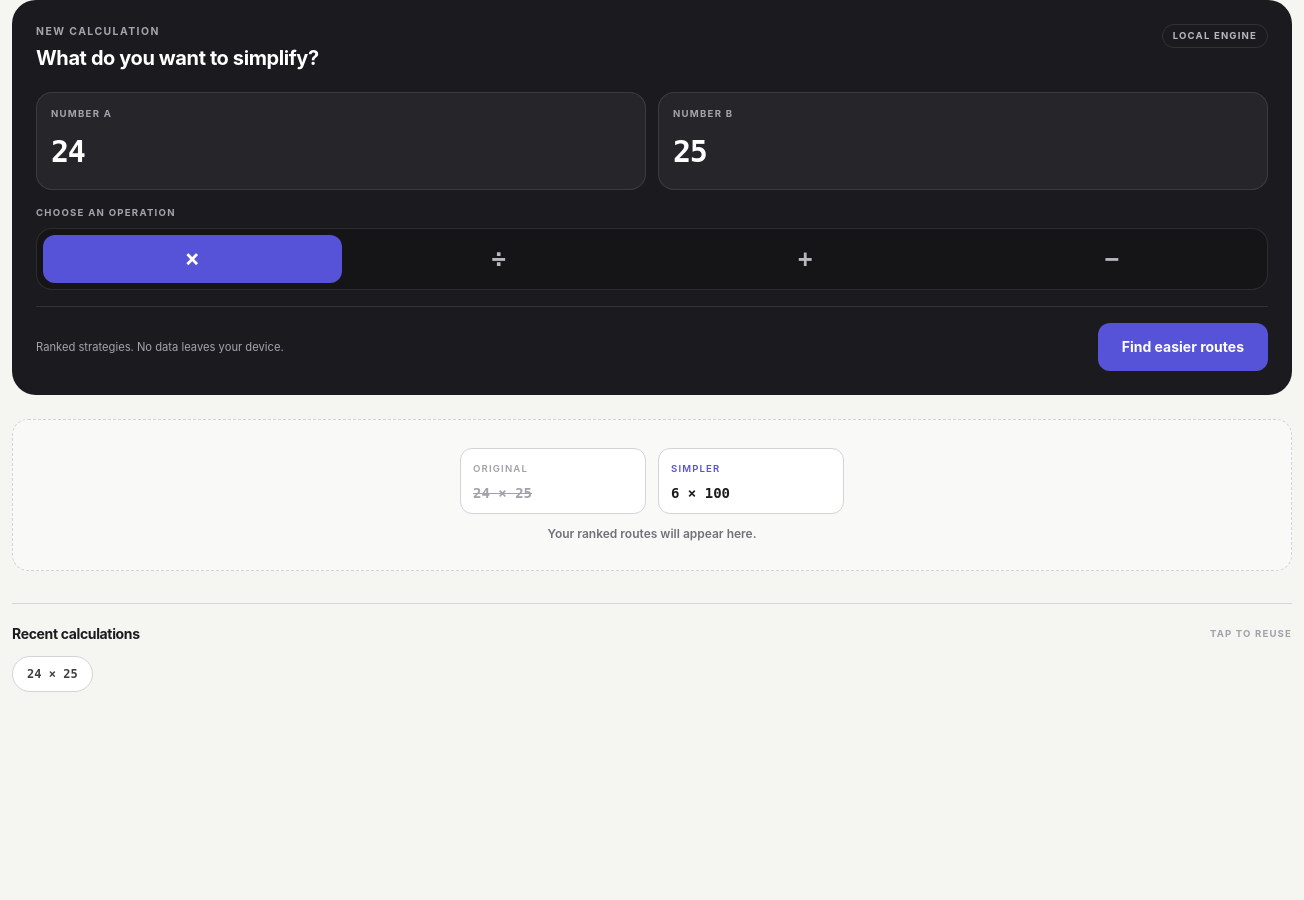
Scenario: CalculatorApp › rejects division by zero without showing results
Click the button named "Select division". click: (499, 259)
box: [350,235,648,283]
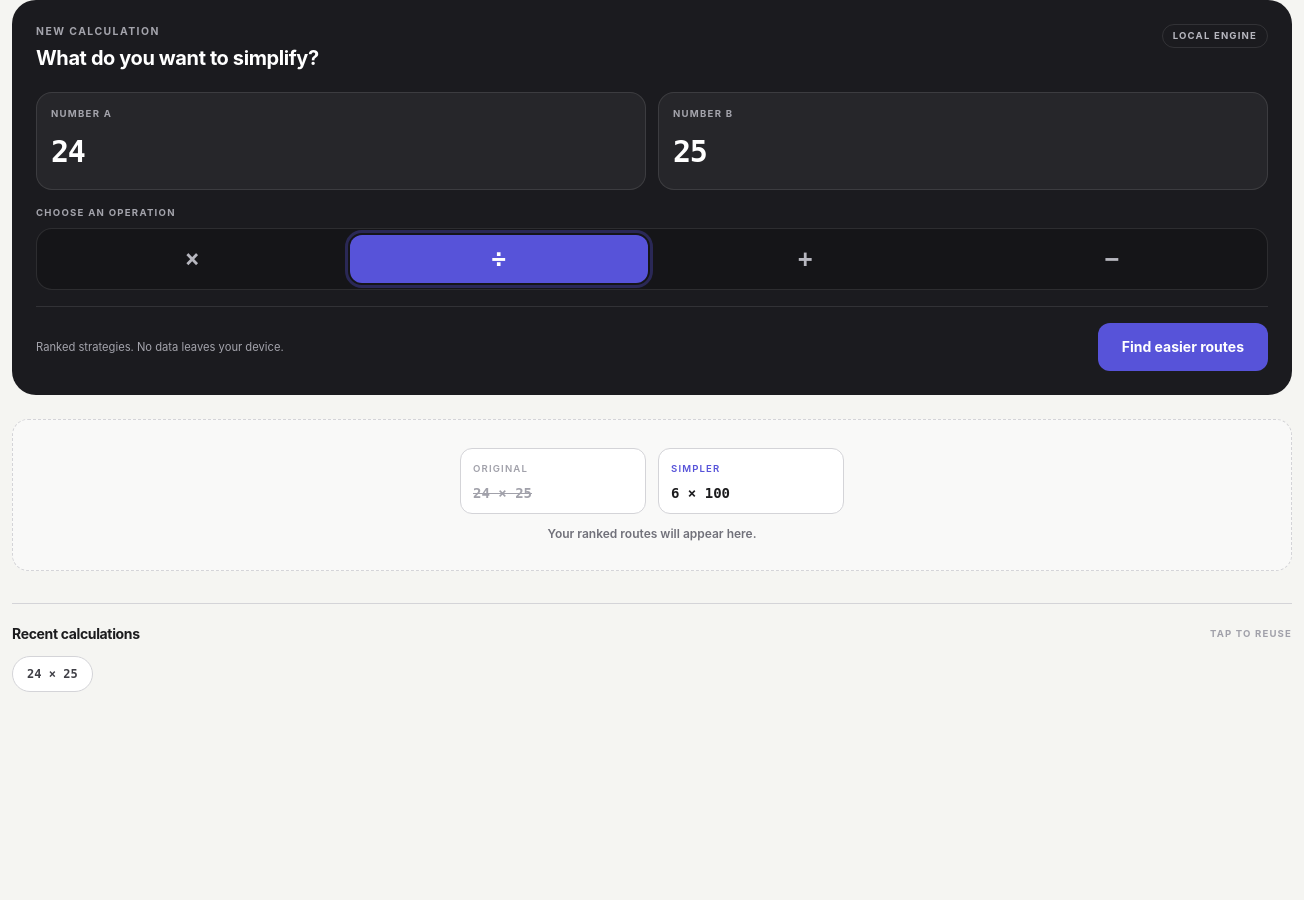
Replace the text in the number field named "Second number" with "0". click: (963, 151)
box: [673,127,1253,175]
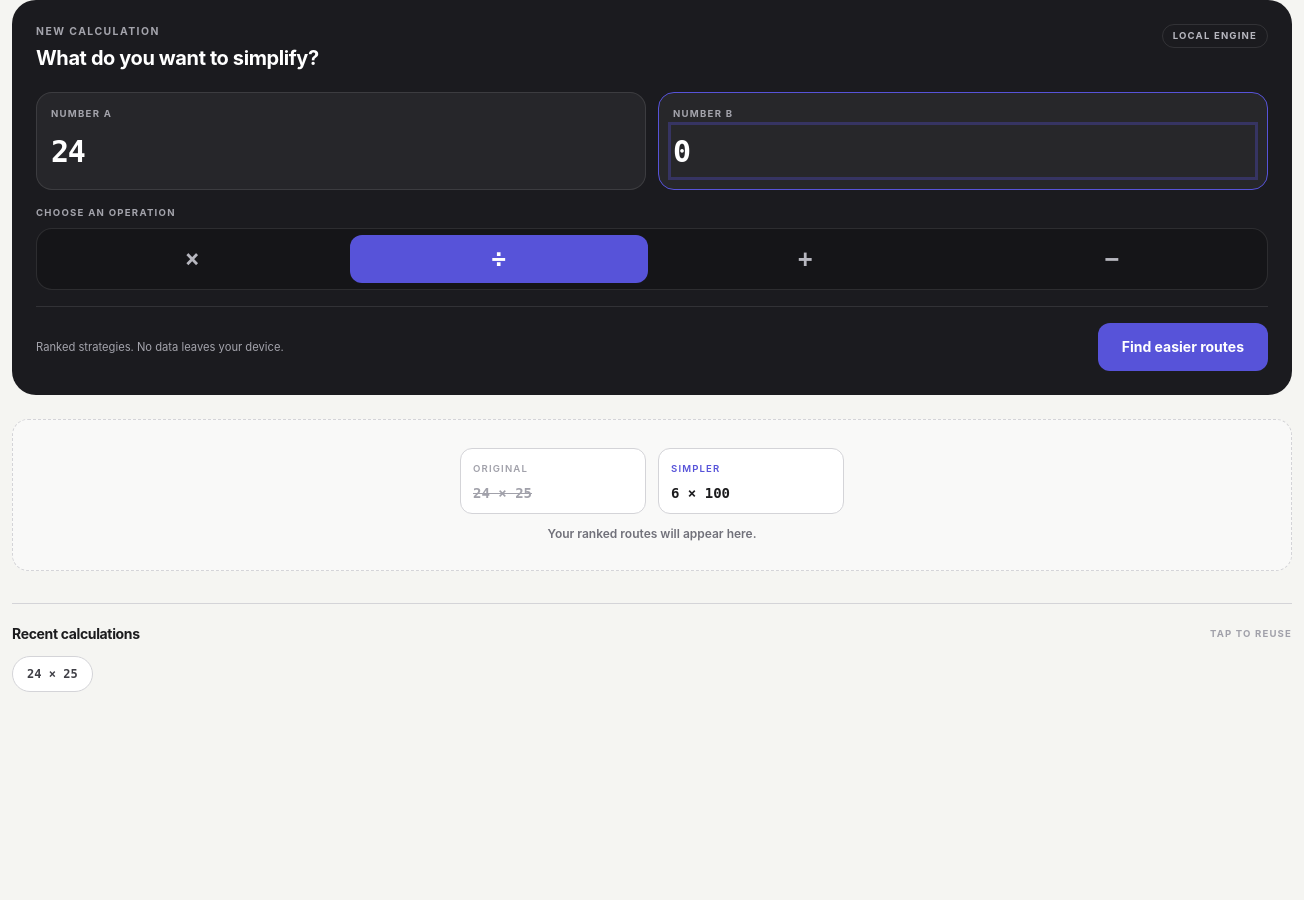
Click the button with aria-label "Solve". click: (1183, 347)
box: [1098,323,1268,371]
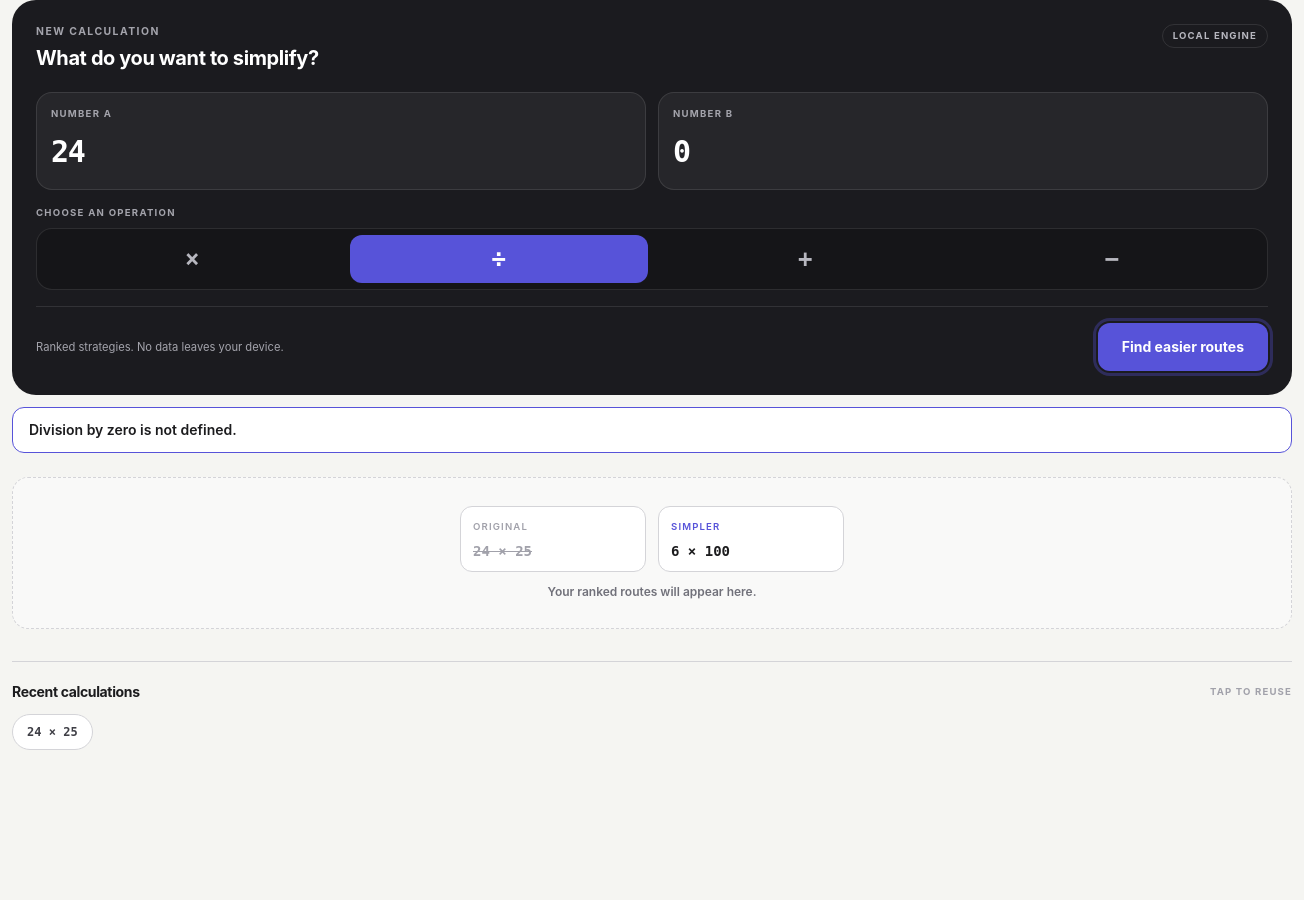
Now the message reads "Division by zero is not defined.", box [29,421,237,438]
Now the button "easier routes?" is gone
